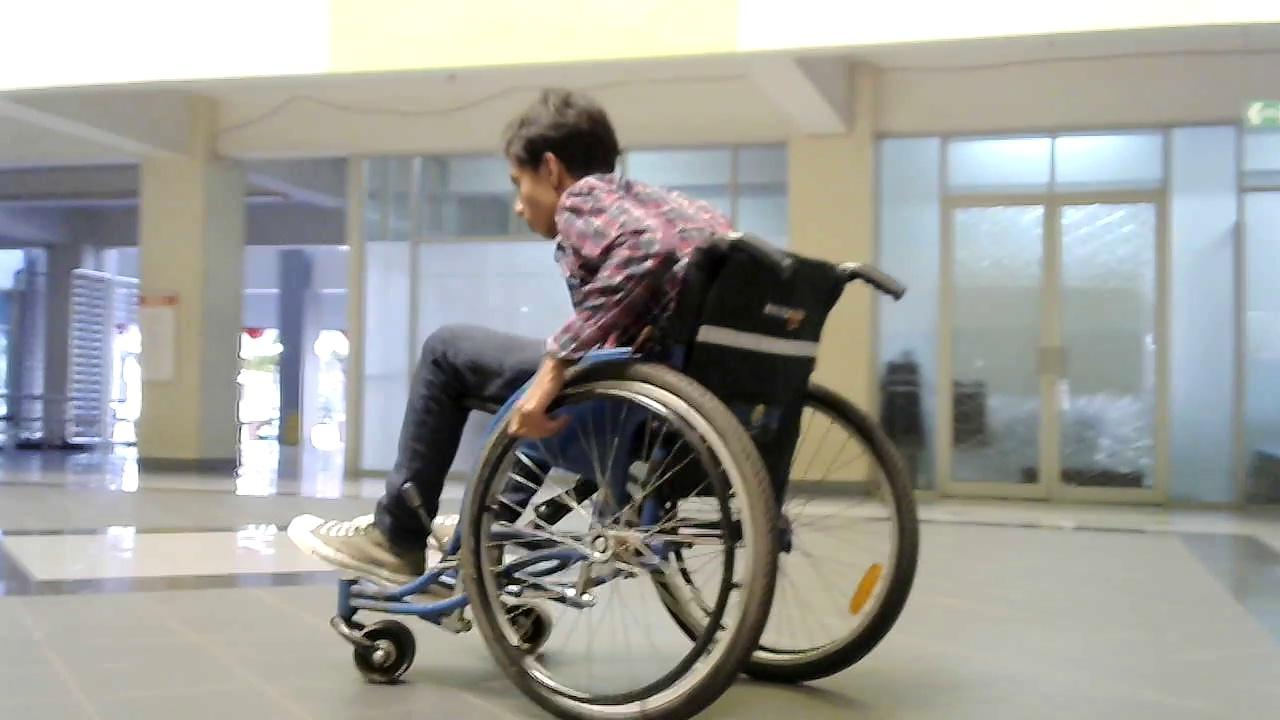person: (293, 87, 737, 597)
wheelchair: (322, 225, 932, 720)
